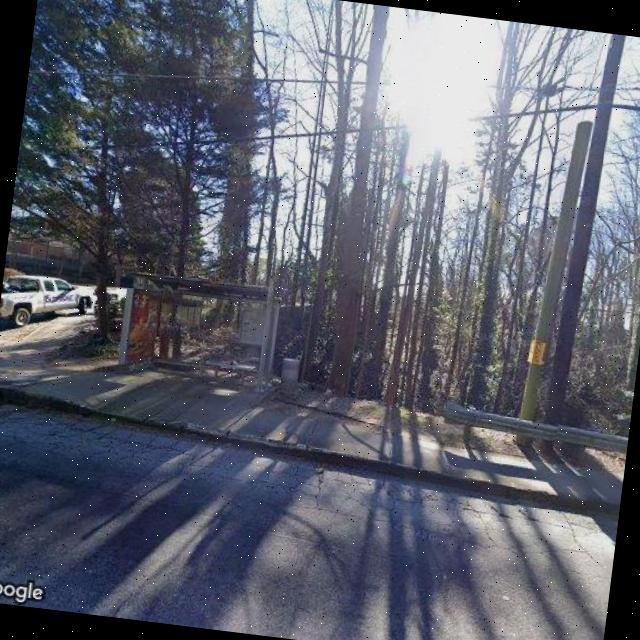seating: (197, 356, 257, 386)
shelter: (113, 269, 283, 397)
trash_can: (277, 356, 301, 398)
